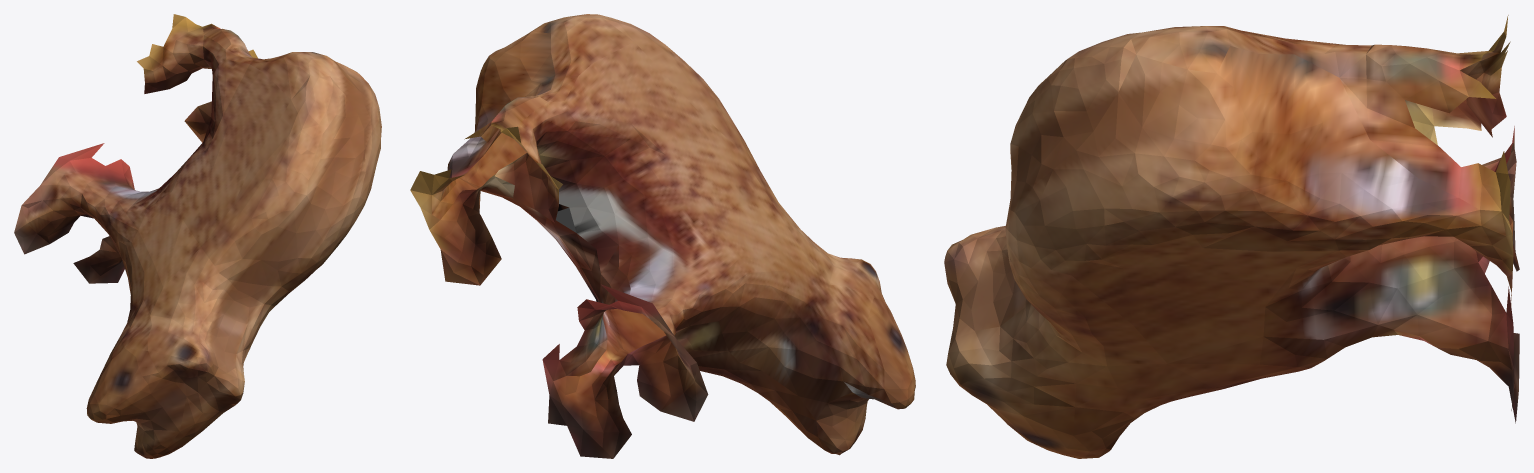
Rendered from Prueba II.obj.
3 renders of one model, left to right at view 1: azimuth 30°, elevation 25°; view 2: azimuth 150°, elevation 25°; view 3: azimuth 270°, elevation 25°, orthographic. The views are drawn at different scales.
Size of the model in its own units: 13.83 by 13.88 by 12.3.
2 materials, 1 textured.
